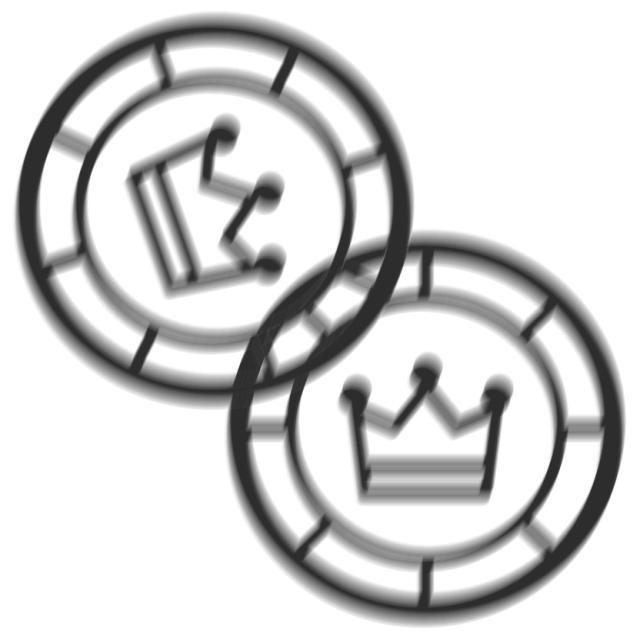coin: (6, 7, 429, 425), (215, 220, 631, 634)
